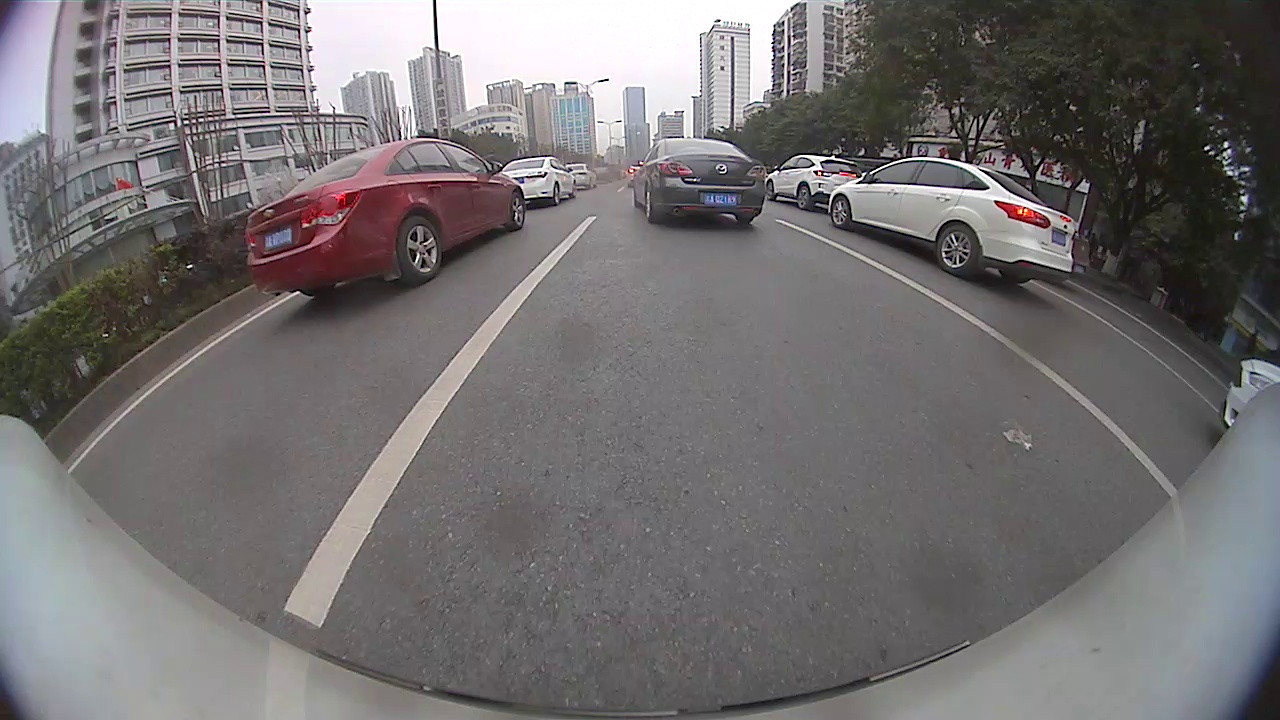car: (245, 139, 525, 300), (826, 155, 1076, 282), (631, 137, 765, 227), (770, 151, 860, 209), (1221, 356, 1277, 435), (503, 158, 575, 205)
front: (509, 191, 527, 229), (831, 197, 851, 229)
rear: (396, 216, 442, 286), (935, 223, 982, 276), (795, 185, 811, 211)
